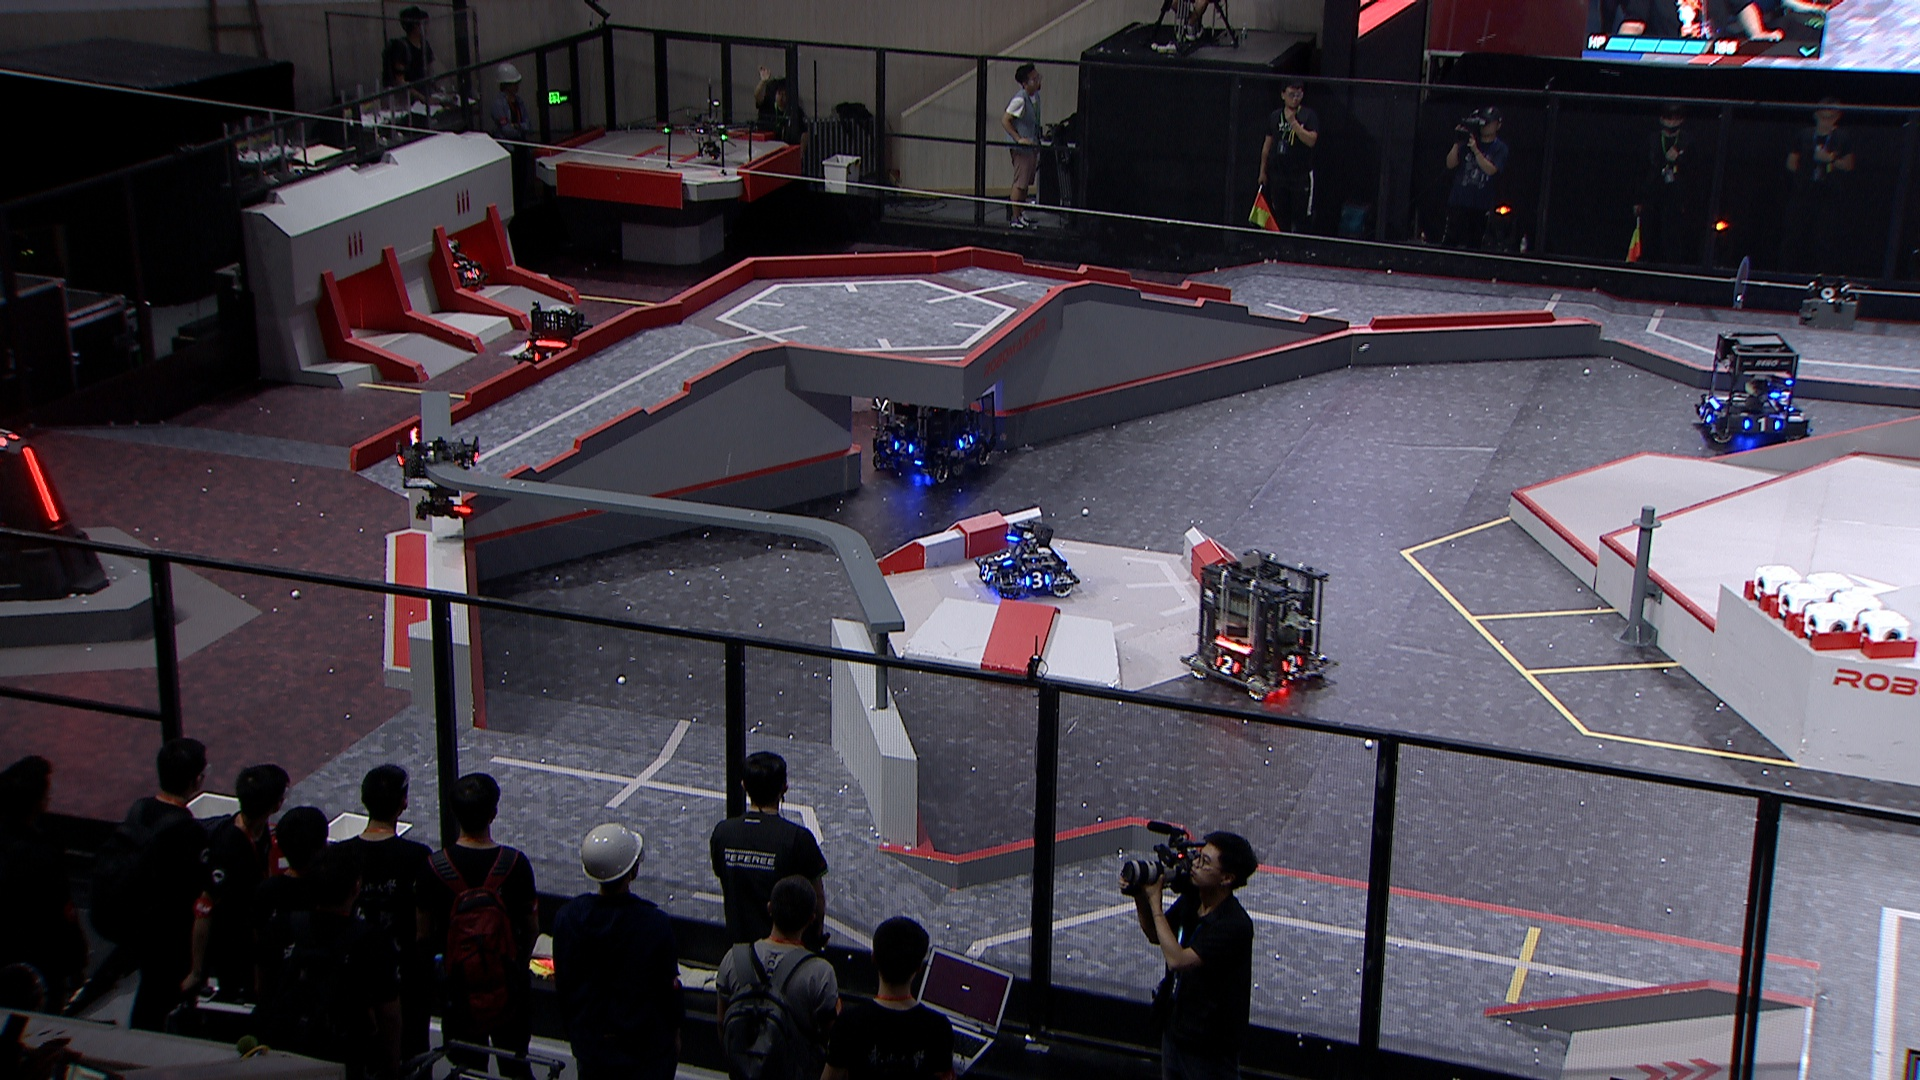armor: (21, 444, 61, 526), (1741, 417, 1779, 436), (1216, 655, 1240, 676), (891, 438, 915, 456), (1282, 654, 1304, 673), (1027, 570, 1048, 588), (975, 560, 993, 582), (1695, 405, 1712, 427), (959, 433, 977, 450), (992, 549, 1011, 564), (535, 351, 555, 365), (465, 262, 481, 280), (456, 255, 468, 266)
car: (1178, 547, 1337, 700), (1689, 328, 1817, 456), (869, 365, 1004, 485), (971, 516, 1077, 603), (512, 302, 605, 381), (438, 239, 493, 291)
watcher: (396, 423, 485, 524)
